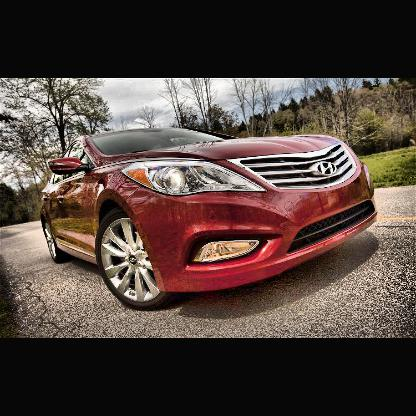Hyundai Azera Sedan 2012: (40, 127, 382, 312)
